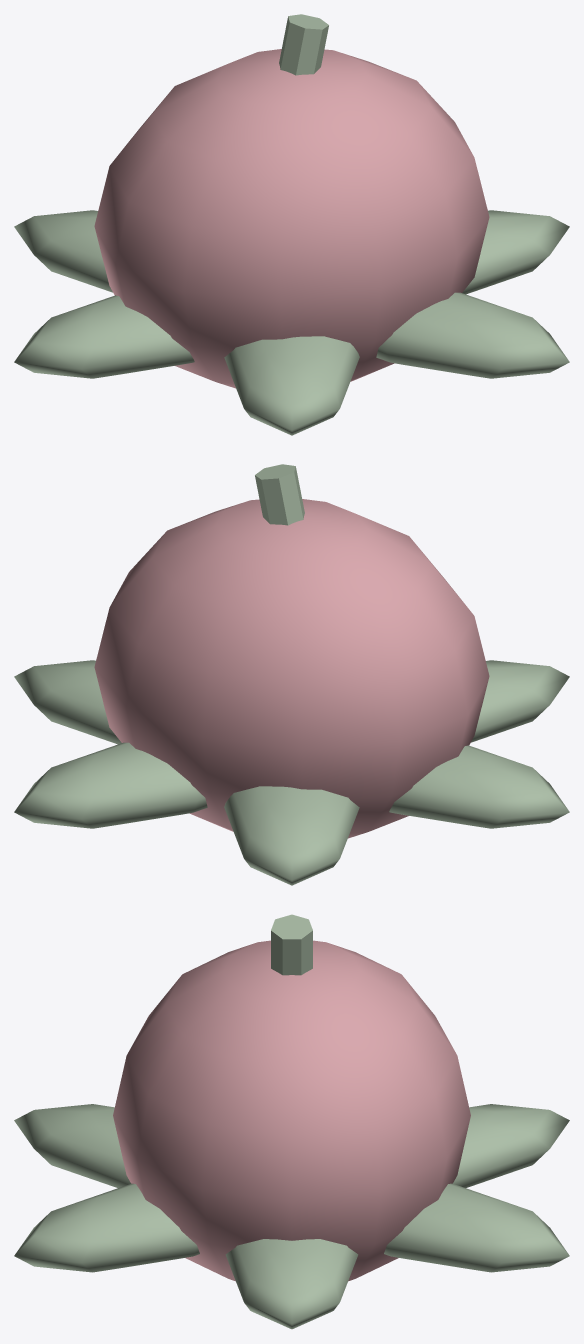
File: farm-crop-1.glb
3 views of the same model, one above another, from view 1: azimuth 30°, elevation 25°; view 2: azimuth 150°, elevation 25°; view 3: azimuth 270°, elevation 25° (orthographic).
Parts seen in each view (by area): view 1: leaf; view 2: leaf; view 3: leaf.
Boxes of the visible parts, x1=… form: leaf: x1=14, y1=14, x2=569, y2=435; leaf: x1=14, y1=464, x2=569, y2=885; leaf: x1=14, y1=914, x2=569, y2=1329.
Bounding box in the file's own units: 1.04 × 0.6373 × 0.9007.
